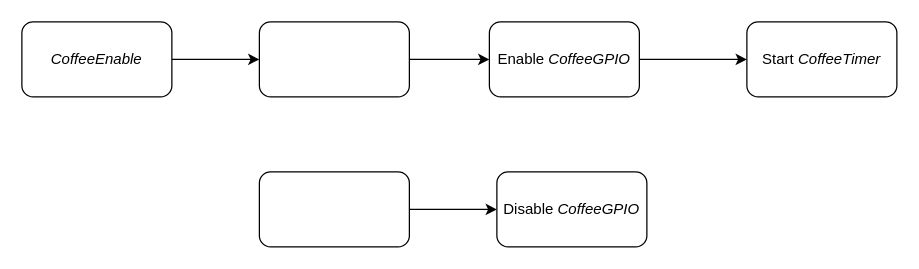
Some shapes in this 919 by 269 pixel diagram are drawn without their labels. Here are the shapes that lost their labels. From the top down, the box of each, then its label:
(258, 21, 409, 97): Configure CoffeeTimer
(258, 171, 409, 247): CoffeeTimerEvent
